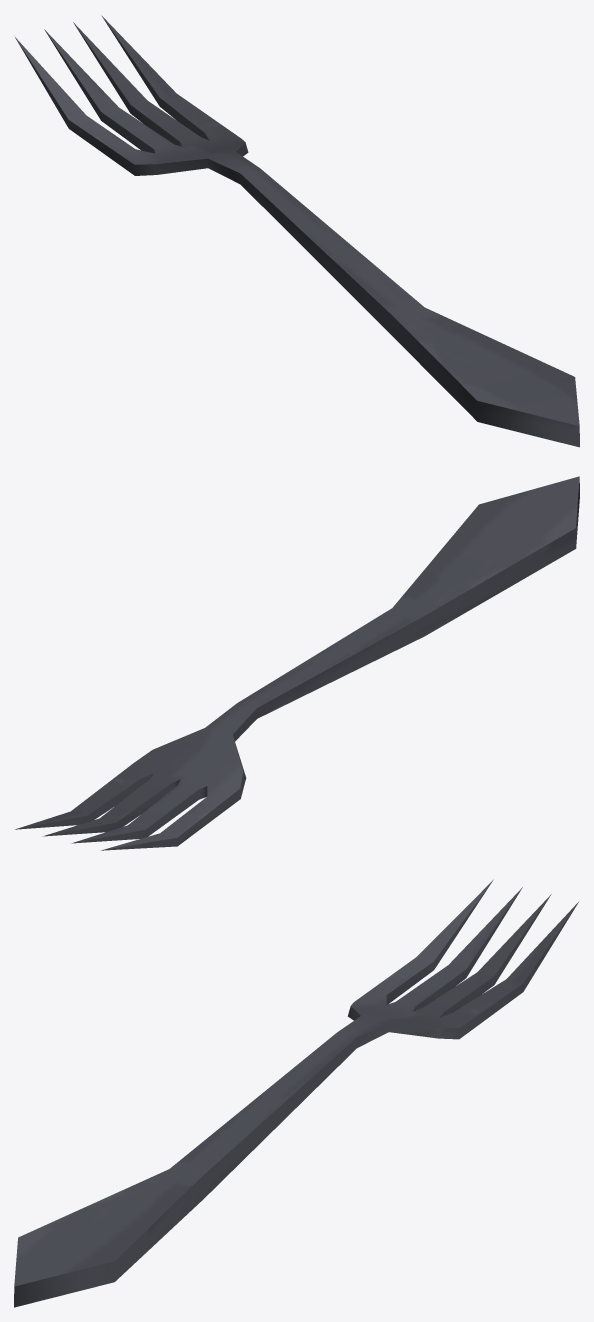
The model's file is SM_PROP_fork_city.fbx.
The picture shows the model from 3 angles, top to bottom: view 1: azimuth 30°, elevation 25°; view 2: azimuth 150°, elevation 25°; view 3: azimuth 330°, elevation 25°; orthographic projection.
Visible parts, largest first — view 1: SM_PROP_fork_city; view 2: SM_PROP_fork_city; view 3: SM_PROP_fork_city.
Part boxes in pixels (left/top/right/bottom): SM_PROP_fork_city: left=15, top=15, right=579, bottom=447; SM_PROP_fork_city: left=15, top=476, right=579, bottom=850; SM_PROP_fork_city: left=14, top=879, right=578, bottom=1307.
Size of the model in its own units: 4.15 by 1.77 by 34.82.
